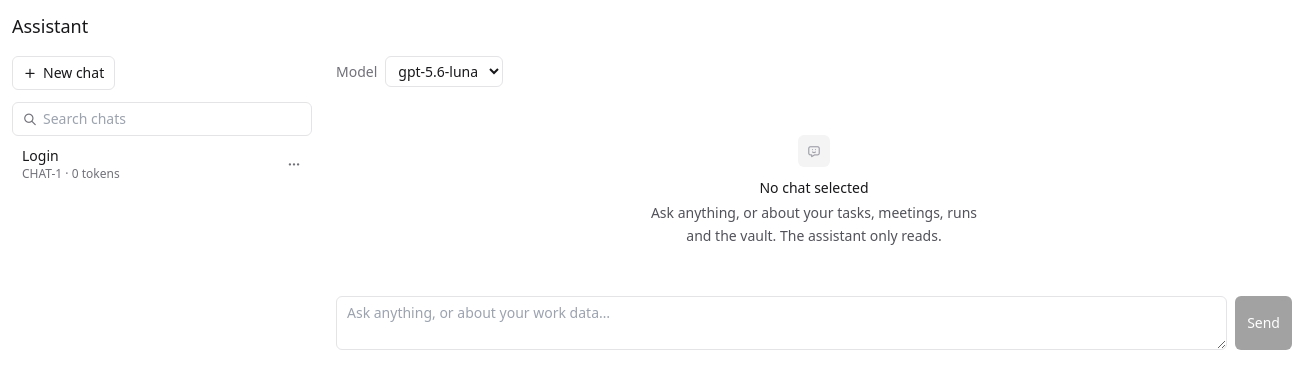
Test: mermaid in Assistant replies › a ts fence in a finished reply still renders the plain CodeBlock with <pre><code>
Click the button "Login CHAT-1 · 0 tokens".
click(40, 156)  # box [12,140,276,188]
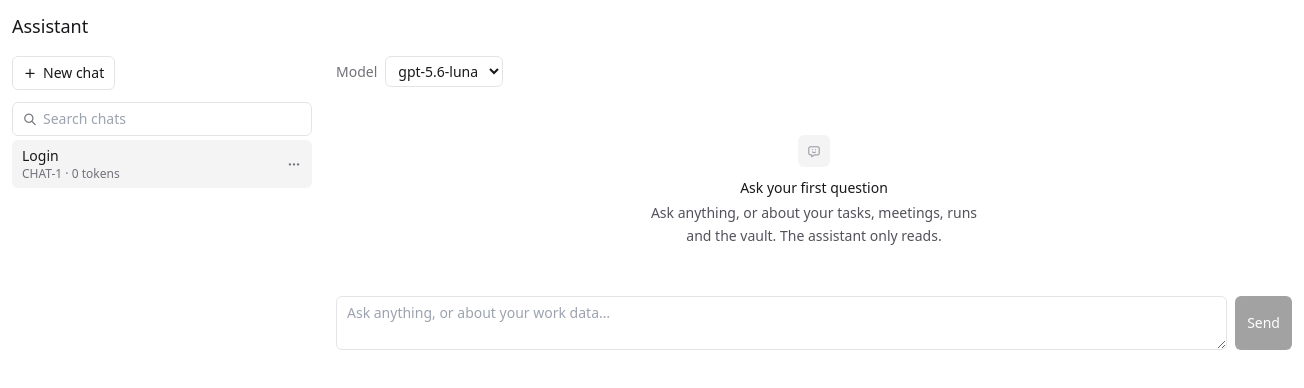
Expected: the text "Ask your first question" is shown, [740,177,888,198]
Type "draw a login" into the text box named "Message".
click(782, 322); type("draw a login")  # box [336,296,1227,350]
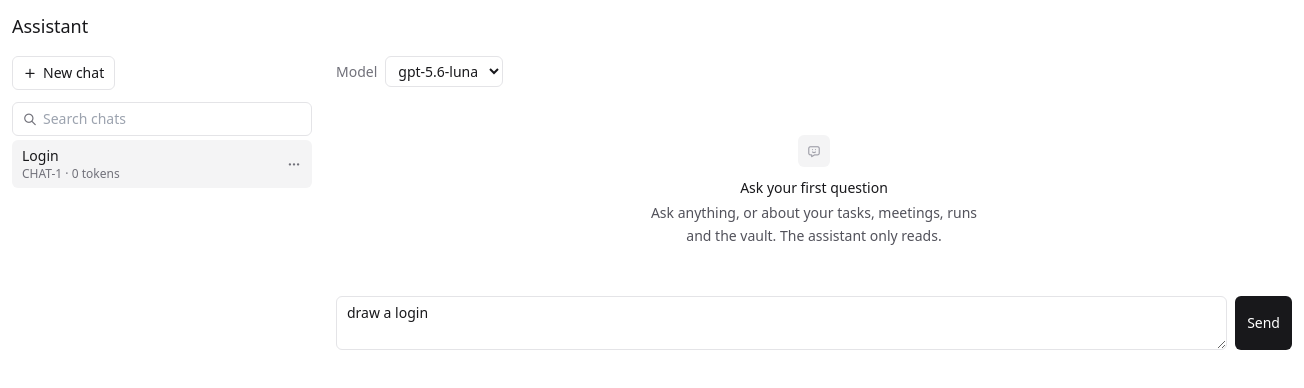
Click the button "Send".
click(1264, 322)  # box [1235,296,1292,350]
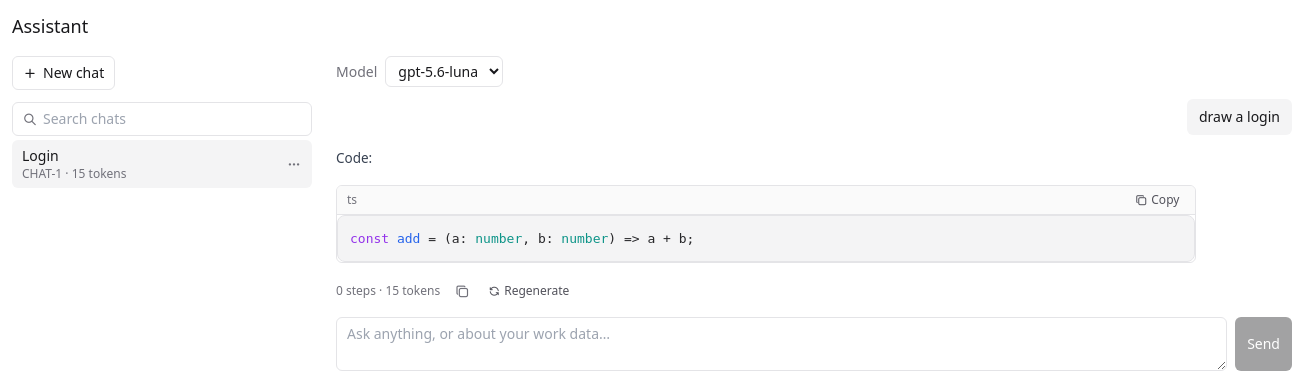
Expected: the element showing "const add = (a: number, b: number) => a + b;" is shown, [350,231,694,246]
